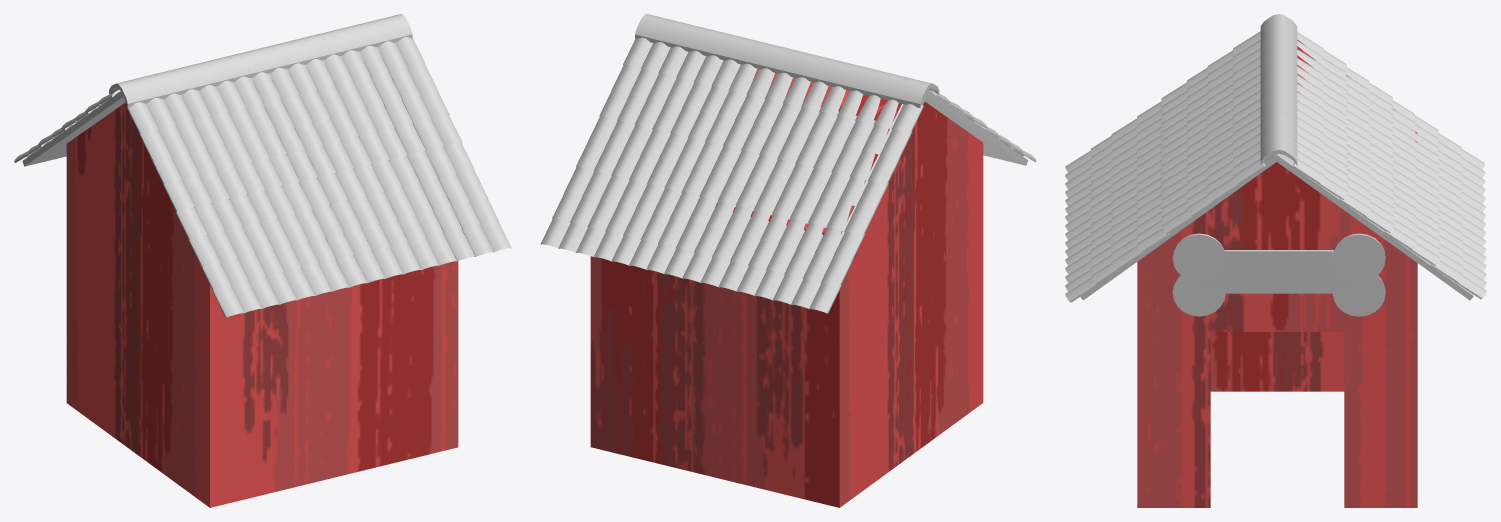
Rendered from dogHouse.fbx.
The picture shows the model from 3 angles, left to right: view 1: azimuth 30°, elevation 25°; view 2: azimuth 150°, elevation 25°; view 3: azimuth 270°, elevation 25°; orthographic projection. The views are drawn at different scales.
Parts seen in each view (by area): view 1: polySurface524; view 2: polySurface524; view 3: polySurface524.
Part boxes in pixels (<box>): polySurface524: <box>14,14,511,507</box>; polySurface524: <box>540,14,1036,507</box>; polySurface524: <box>1065,14,1486,507</box>.
Size of the model in its own units: 6.84 by 8.55 by 8.92.
2 materials, 1 textured.
